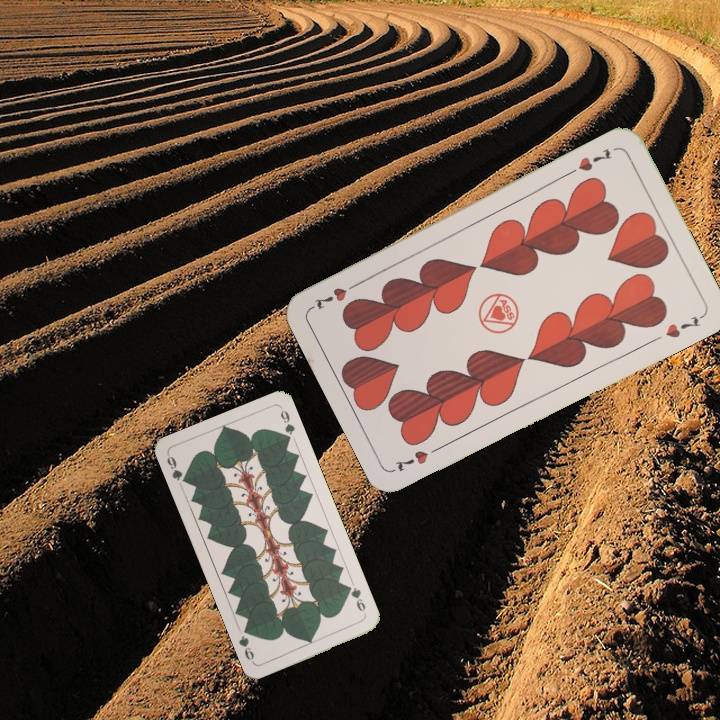G9: (163, 451, 191, 487), (343, 581, 369, 618)
H7: (391, 441, 446, 474), (564, 144, 615, 178)
